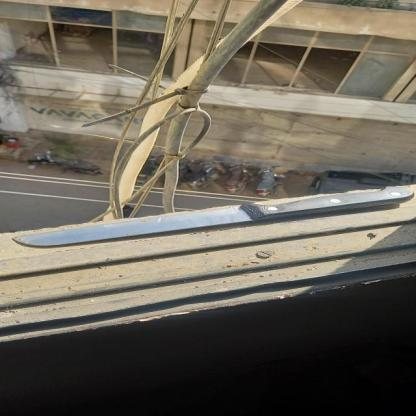Knife: (5, 180, 413, 250)
